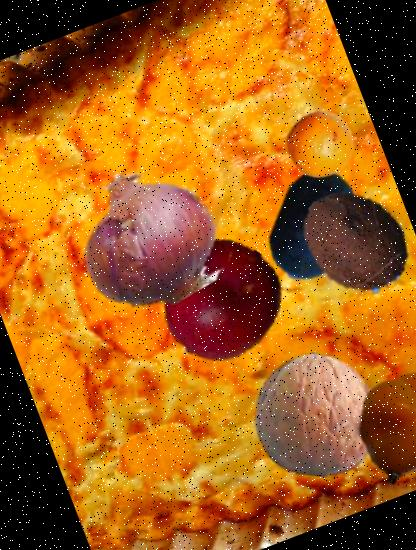Blueberry: (242, 152, 389, 300)
Cocos: (281, 167, 416, 316)
Lemon: (276, 100, 364, 188)
Nectarine: (141, 221, 300, 380)
Onion: (54, 146, 239, 332)
Pepper: (335, 352, 416, 503)
Walnut: (236, 334, 397, 494)
